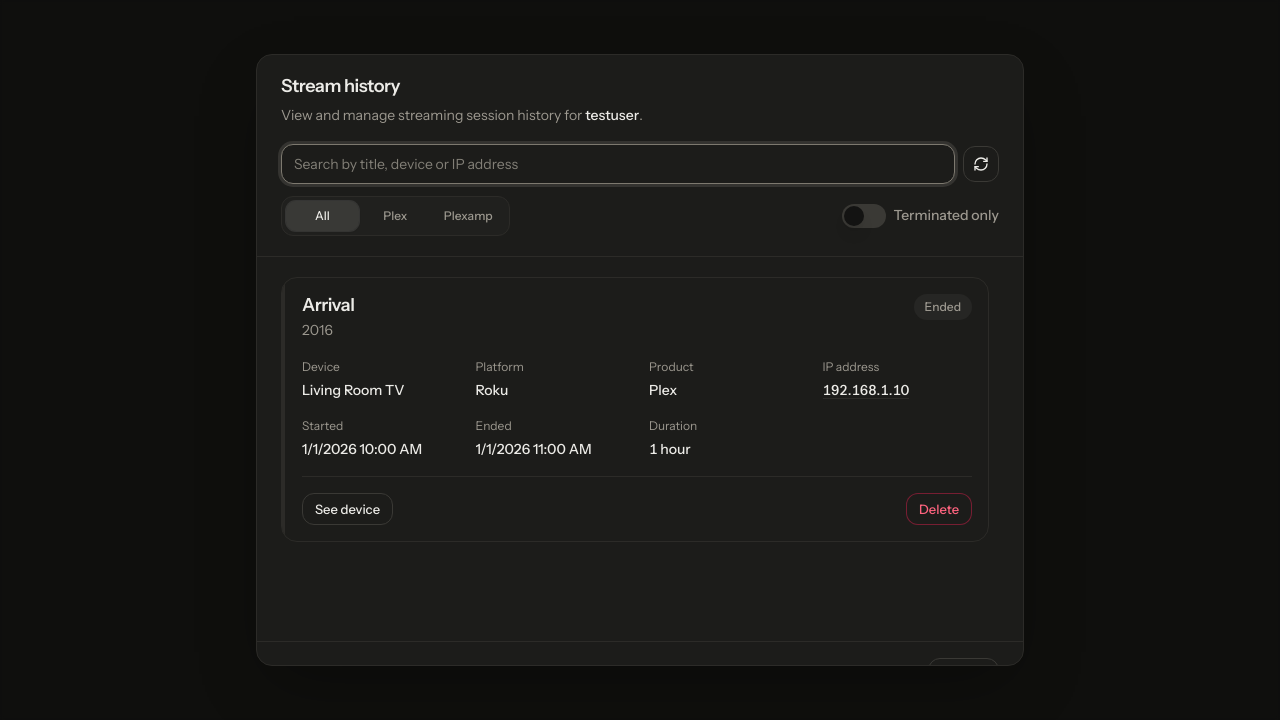
Test case: UserHistoryModal filtering › says when nothing matches
Type "zzz" into the field with placeholder "Search by title, device or IP address". click: [618, 164]
box: [281,144,955,184]
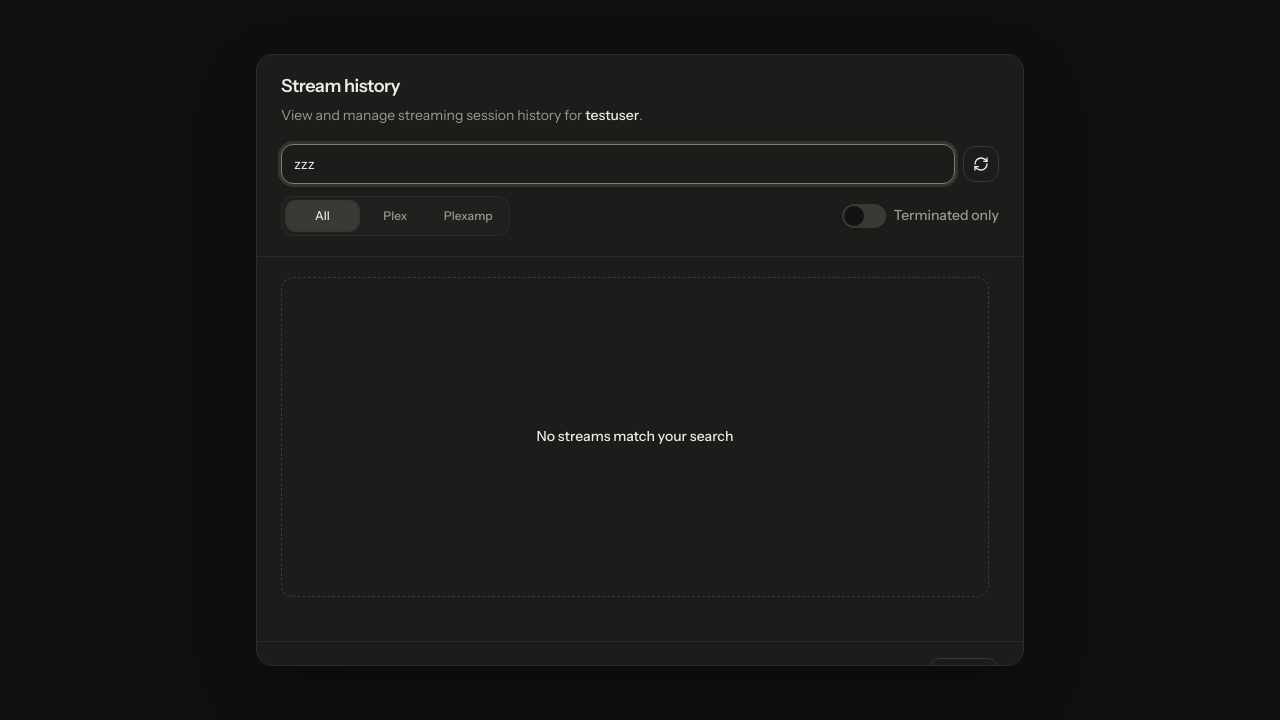
expect the text "No streams match your search" is shown: met, box [537,426,734,448]
